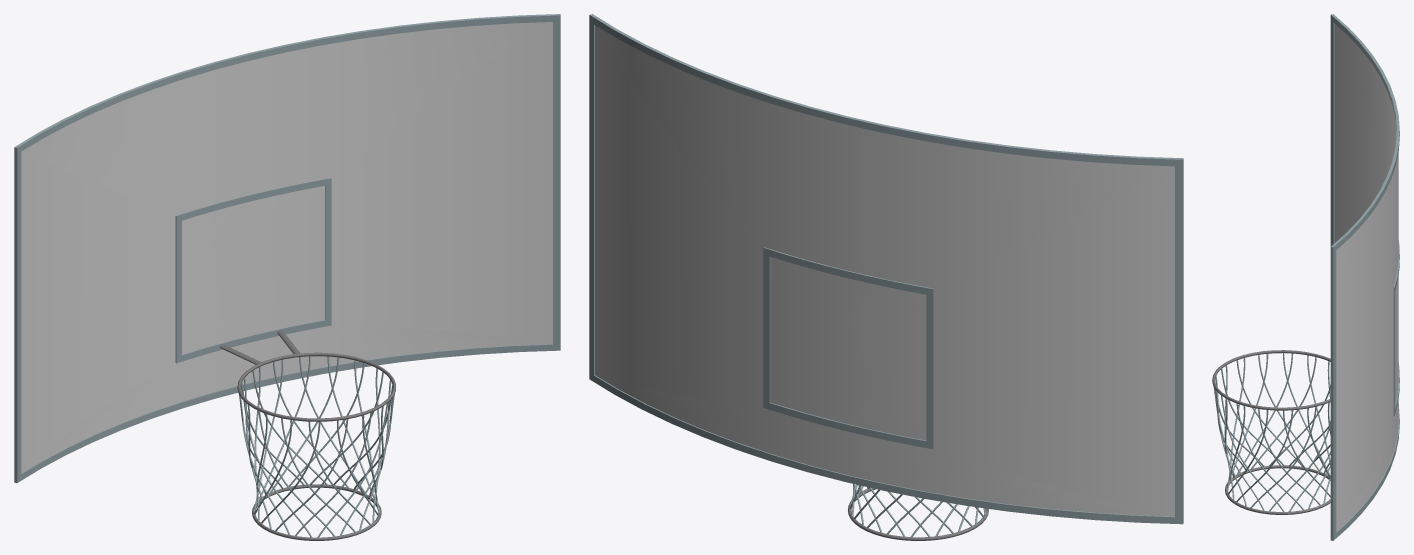
File: BasketGoal.FBX
The picture shows the model from 3 angles, left to right: view 1: azimuth 30°, elevation 25°; view 2: azimuth 150°, elevation 25°; view 3: azimuth 270°, elevation 25°; orthographic projection. The views are drawn at different scales.
Visible parts, largest first — view 1: Hoop_out_Block, Hoop_inner_Block, Hoop_out_Frame, Hoop_Roap, Hoop_inner_Frame, Hoop_Ring1, Hoop_Ring2; view 2: Hoop_out_Block, Hoop_inner_Block, Hoop_out_Frame, Hoop_inner_Frame, Hoop_Roap, Hoop_Ring2; view 3: Hoop_out_Block, Hoop_Roap, Hoop_out_Frame, Hoop_Ring1, Hoop_Ring2, Hoop_inner_Frame, Hoop_inner_Block.
Boxes of the visible parts, left/top/right/bottom form: Hoop_out_Block: left=21, top=22, right=552, bottom=473; Hoop_inner_Block: left=182, top=186, right=324, bottom=354; Hoop_out_Frame: left=14, top=14, right=560, bottom=482; Hoop_Roap: left=239, top=356, right=394, bottom=537; Hoop_inner_Frame: left=175, top=178, right=331, bottom=363; Hoop_Ring1: left=220, top=330, right=395, bottom=421; Hoop_Ring2: left=252, top=484, right=381, bottom=540; Hoop_out_Block: left=595, top=25, right=1174, bottom=516; Hoop_inner_Block: left=770, top=257, right=926, bottom=440; Hoop_out_Frame: left=589, top=14, right=1183, bottom=524; Hoop_inner_Frame: left=763, top=247, right=933, bottom=449; Hoop_Roap: left=849, top=484, right=986, bottom=537; Hoop_Ring2: left=848, top=488, right=988, bottom=540; Hoop_out_Block: left=1334, top=24, right=1398, bottom=531; Hoop_Roap: left=1213, top=353, right=1330, bottom=512; Hoop_out_Frame: left=1330, top=14, right=1399, bottom=540; Hoop_Ring1: left=1212, top=350, right=1330, bottom=410; Hoop_Ring2: left=1225, top=465, right=1330, bottom=514; Hoop_inner_Frame: left=1393, top=240, right=1399, bottom=416; Hoop_inner_Block: left=1395, top=276, right=1398, bottom=402.
Size of the model in its own units: 5.99 by 4.31 by 2.03.
